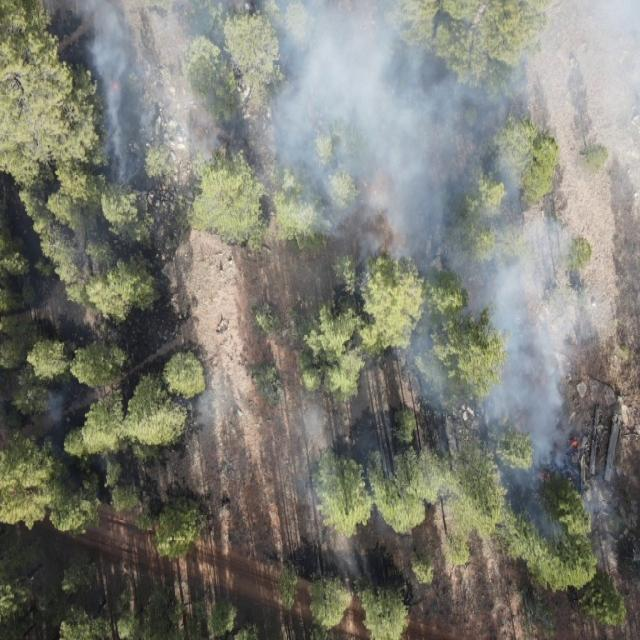fire: (536, 471, 554, 482), (110, 79, 122, 95), (570, 435, 580, 450)
smoke: (0, 0, 640, 250), (271, 250, 640, 594), (185, 370, 236, 425), (38, 386, 67, 436)
